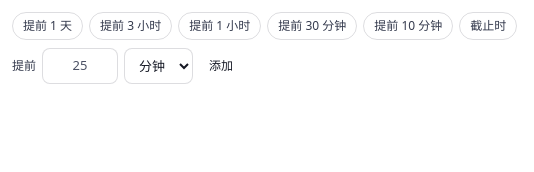
Test: ReminderPicker 自定义提前量 › 0 分钟提示使用“截止时”预设
Type "0" into the field named "自定义提前量数值".
click(80, 66); type("0")  # box [42,48,118,84]
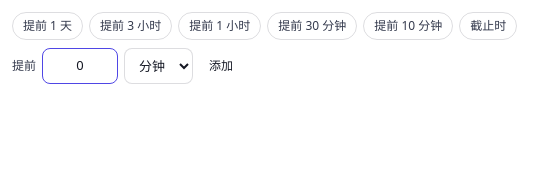
Click the button "添加".
click(221, 66)  # box [199,54,243,78]
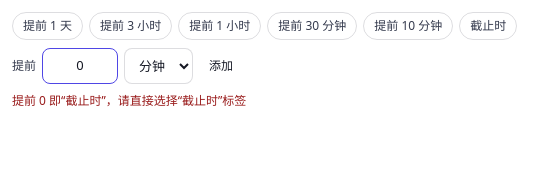
Result: the text "提前 0 即“截止时”，请直接选择“截止时”标签" is shown at [12,92,246,109]
